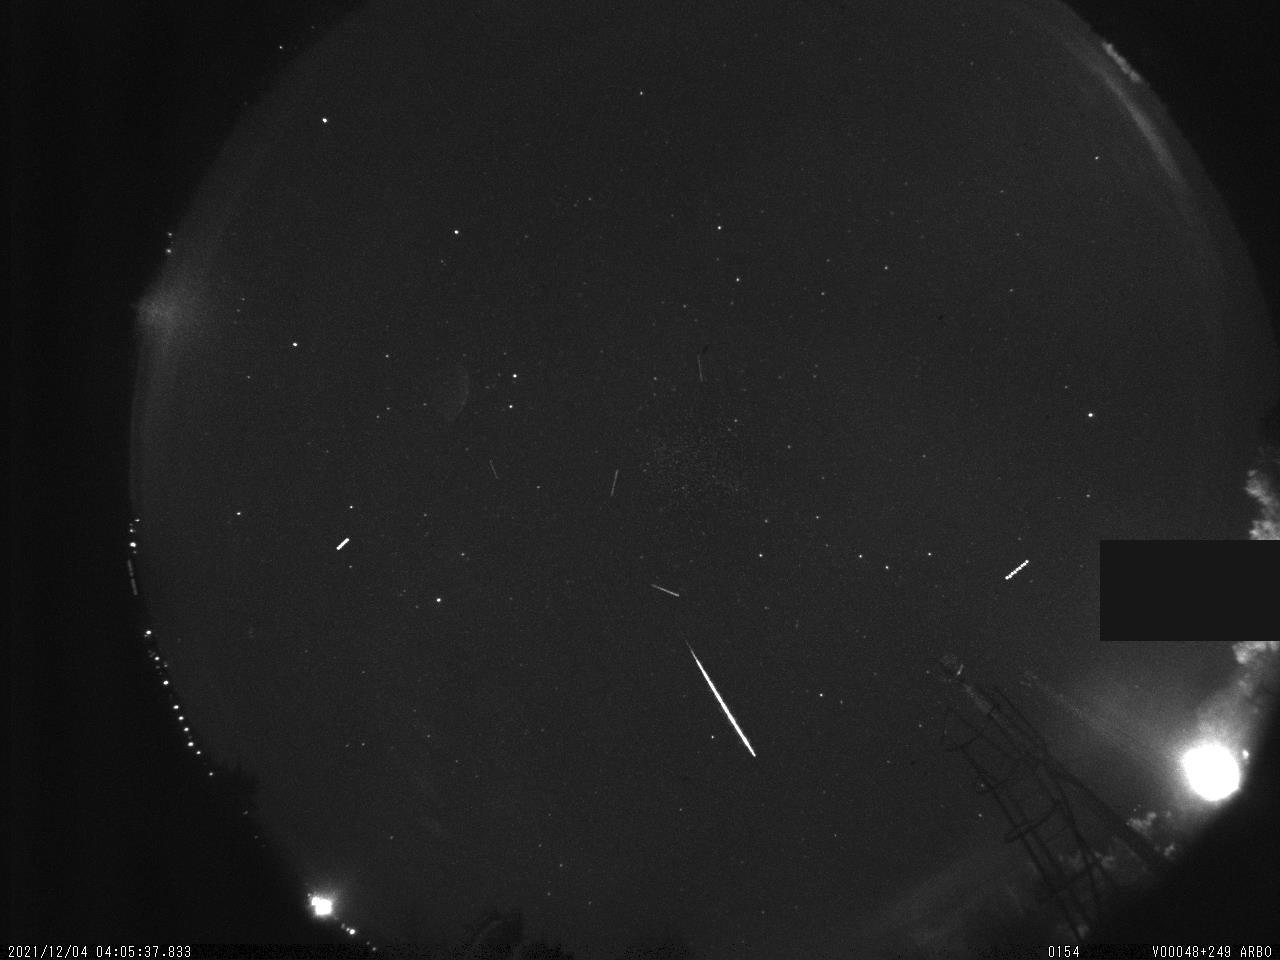meteor: (671, 619, 773, 776), (644, 575, 685, 602)
satelite: (994, 550, 1038, 586), (599, 465, 629, 505), (326, 529, 354, 559)
